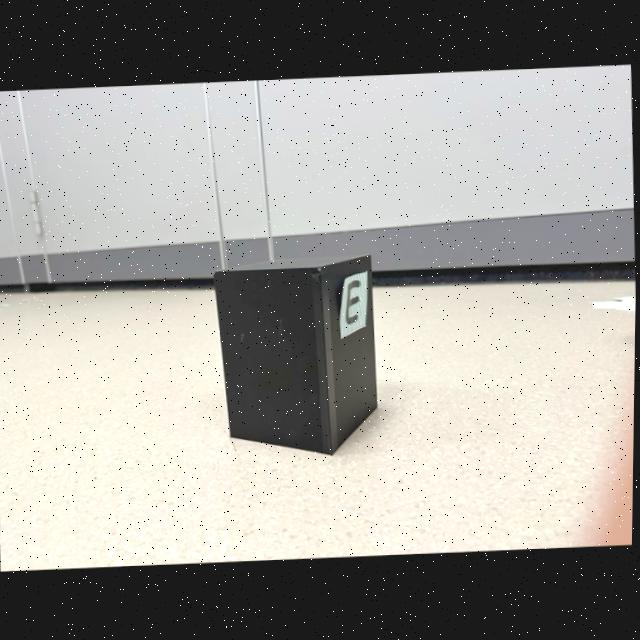E: (347, 281, 361, 326)
